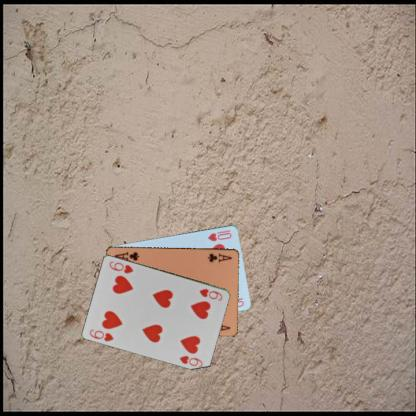10h: (205, 230, 233, 242)
6h: (87, 326, 115, 342), (197, 286, 224, 302)
Ac: (205, 251, 233, 263)
